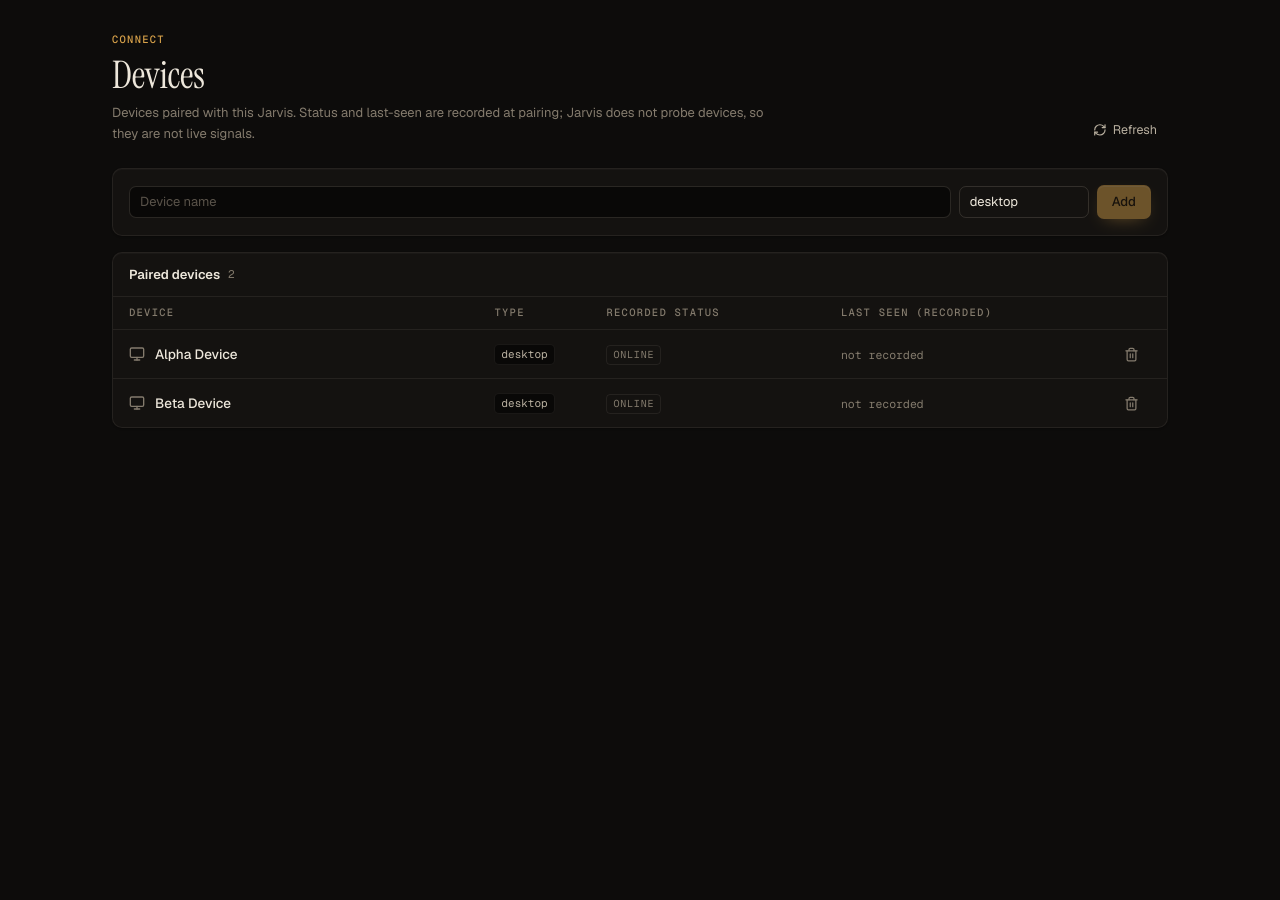
Test: DevicesPage removal coordination › holds confirmation, blocks repeated confirmation, and keeps other ids usable
The width and height of the screenshot is (1280, 900).
Expected: the text "Alpha Device" is shown, [155, 344, 238, 364]
Click the button named "Remove" in the row of "Alpha Device": (1131, 354) [1119, 342, 1143, 366]
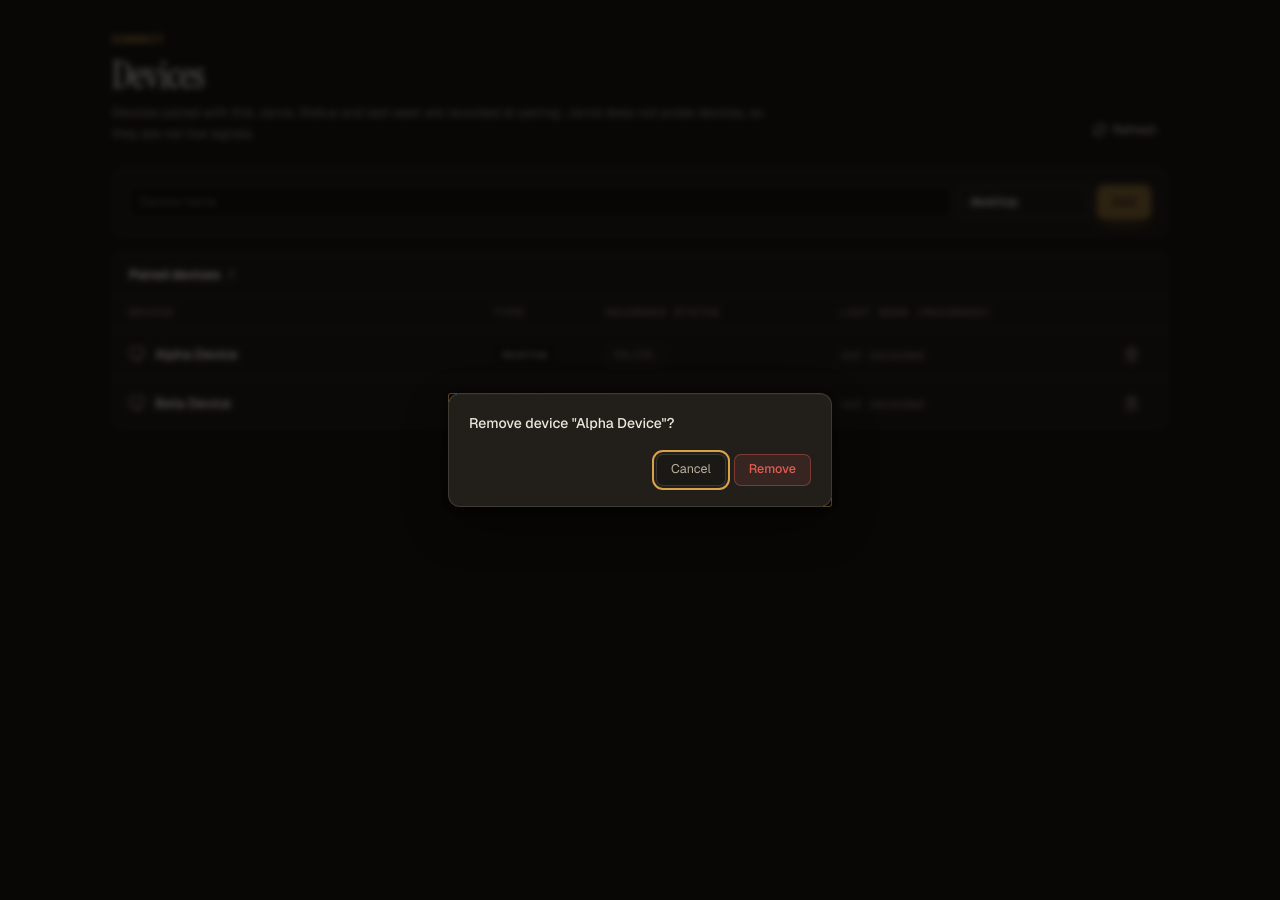
Click the button "Remove": (772, 470) [734, 454, 811, 486]
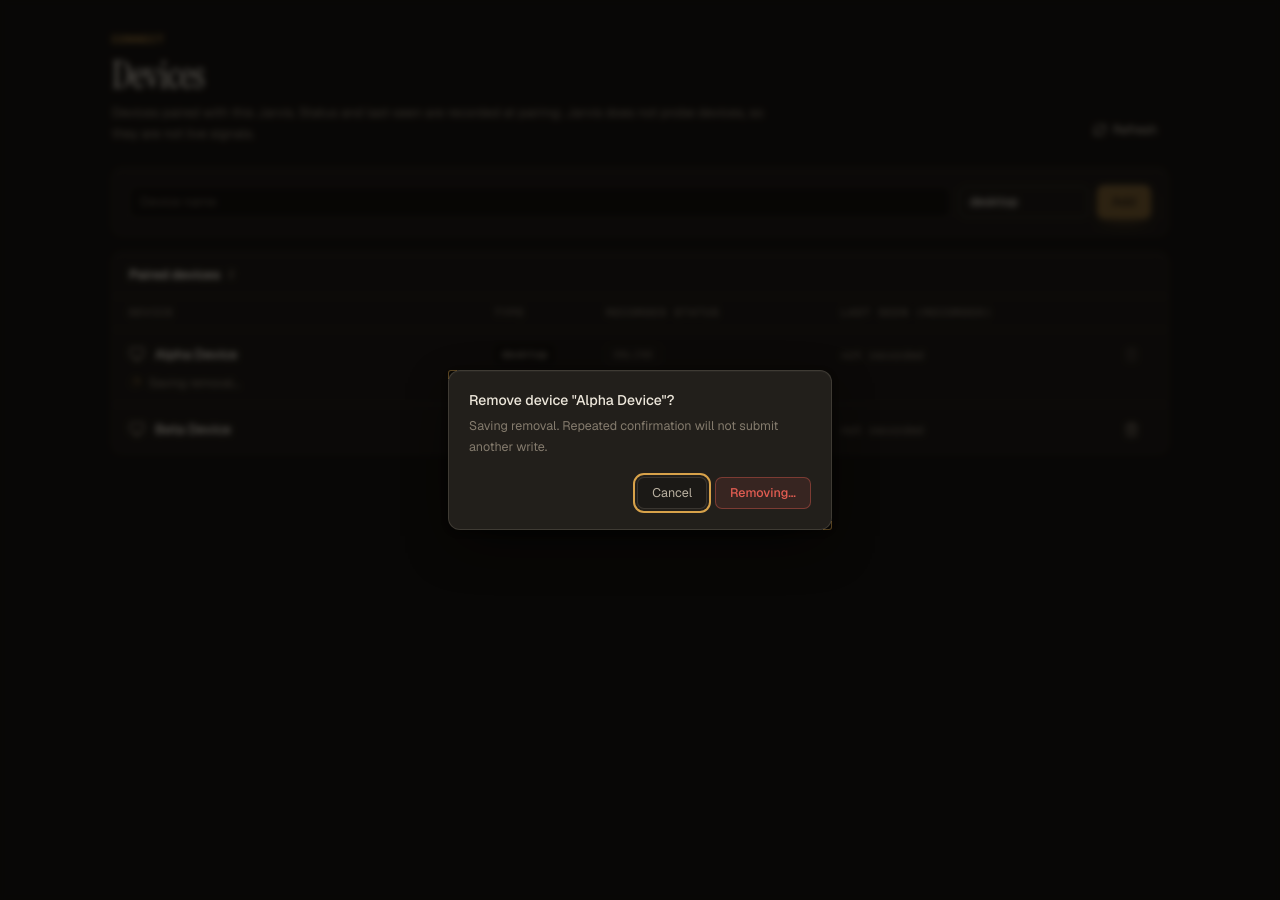
Expected: the dialog shows "Saving removal", [469, 417, 778, 455]
Click the button "Removing…": (763, 493) [715, 477, 811, 509]
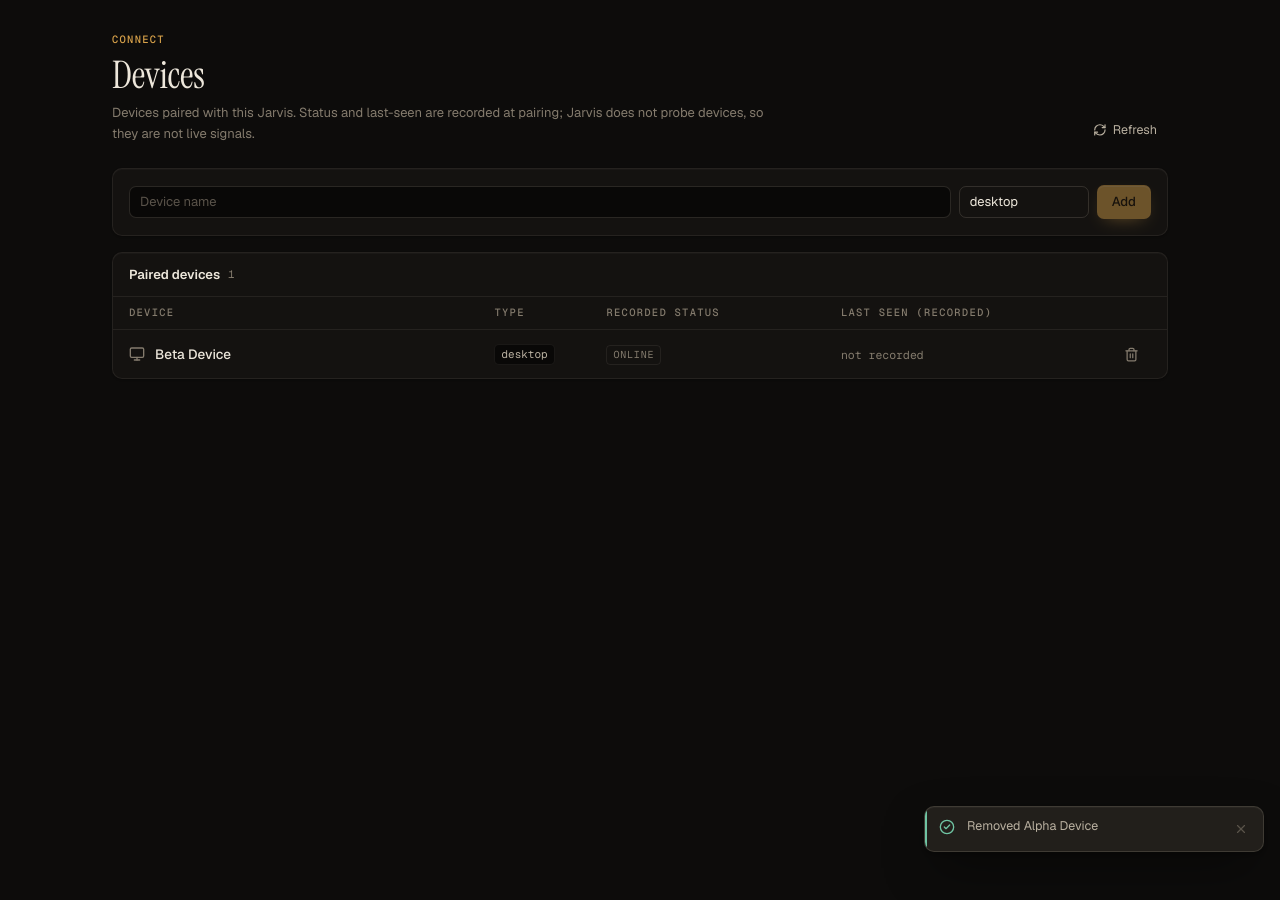
Expected: the dialog is gone
Expected: the text "Removed Alpha Device" is shown, [967, 817, 1098, 834]
